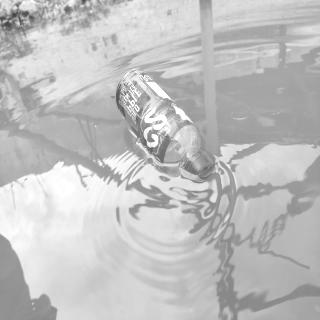bottle: (114, 63, 218, 184)
